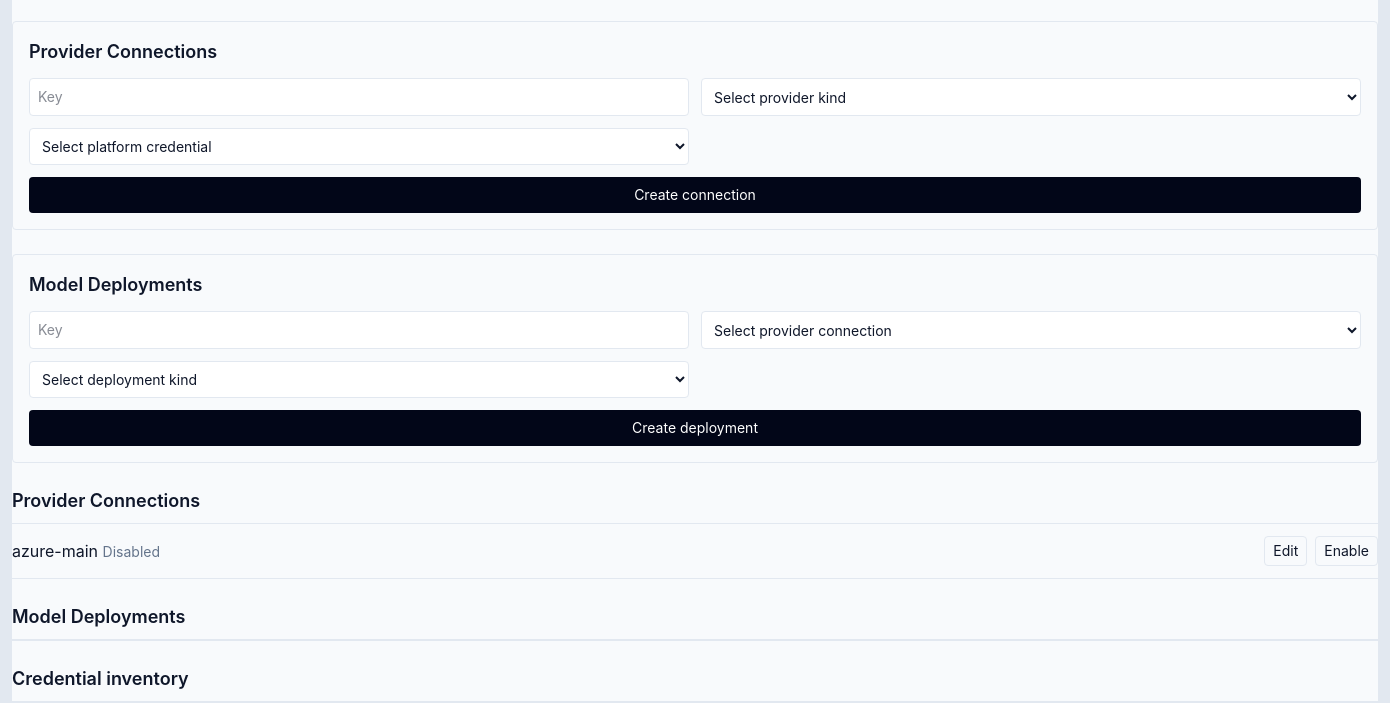
Admin Web Slice B provider provisioning › keeps a stale ETag failure distinguishable as a concurrency error
This screenshot has width=1390, height=703.
(page scrolled)
Click the button "Enable": coordinates (1347, 551) [1315,536,1378,566]
(page scrolled)
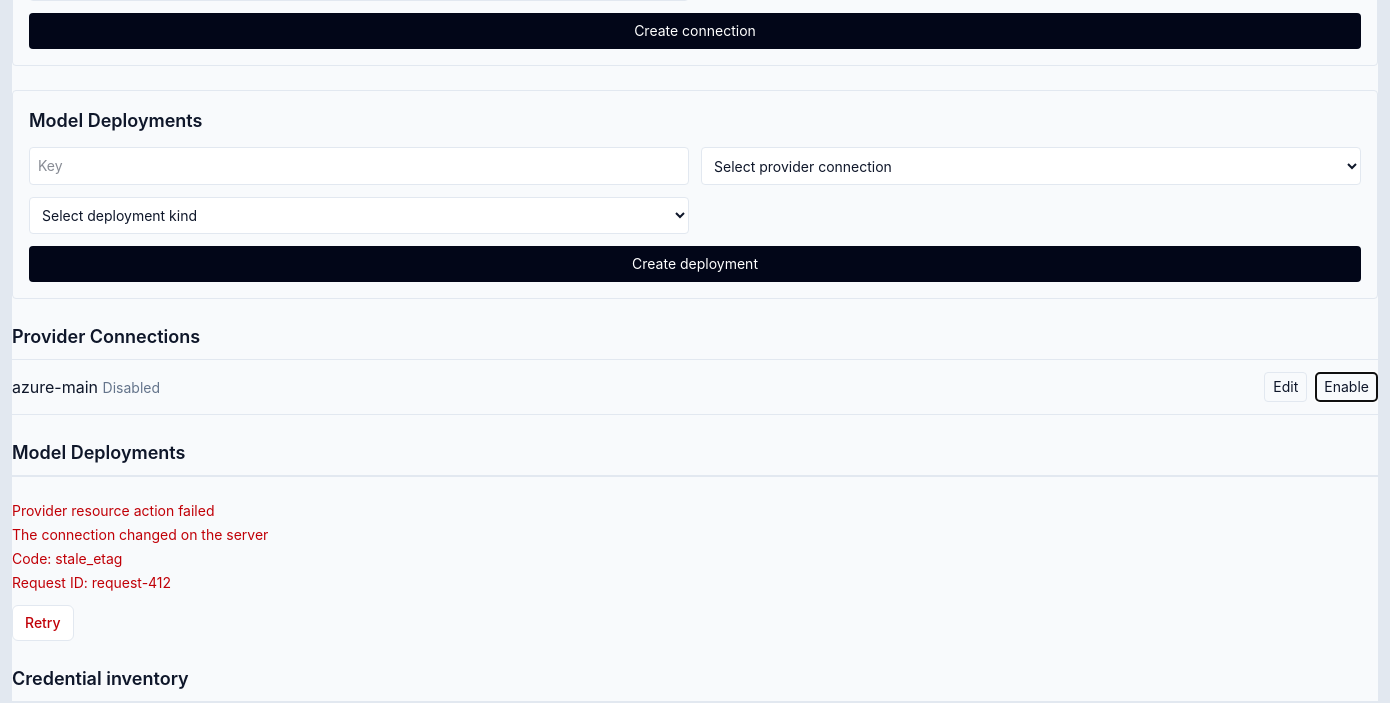
Now the text "The connection changed on the server" is shown, box [12,526,268,543]
Now the text "Code: stale_etag" is shown, box [12,550,122,567]
Now the text "Request ID: request-412" is shown, box [12,574,171,591]
